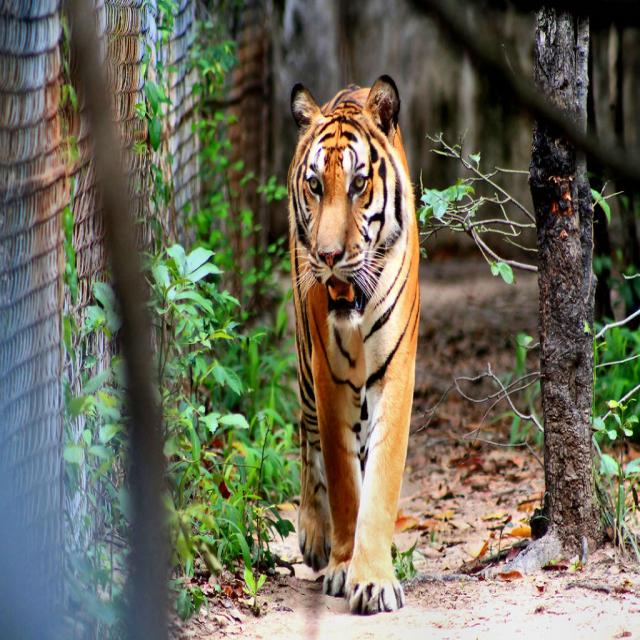Tiger: (286, 74, 420, 616)
